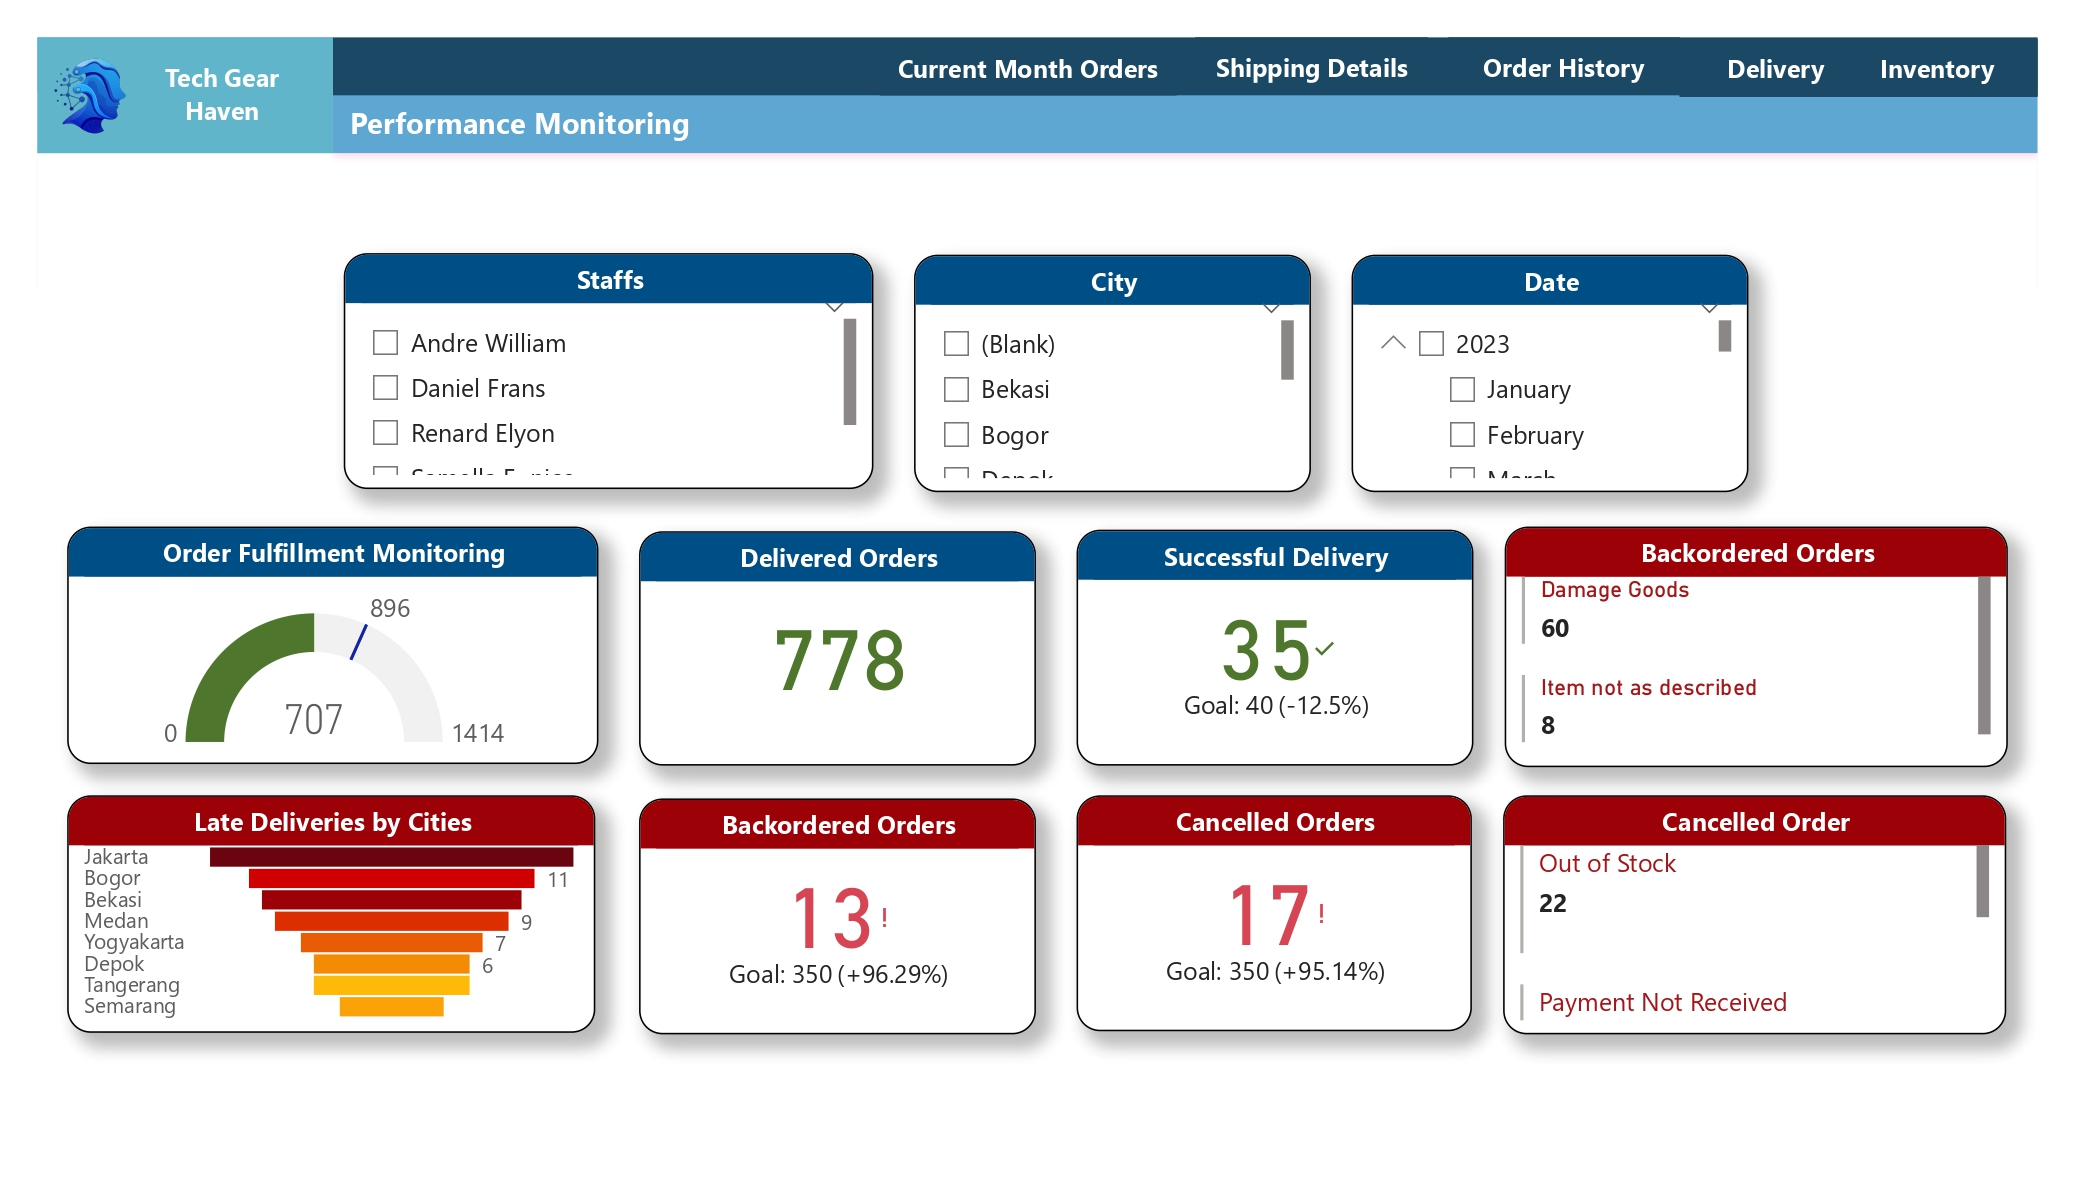

The page's visual inventory and layout, read from the dashboard file:
{"tool":"powerbi","page":{"name":"Performance","canvas":[1280,720],"ordinal":5},"visuals":[{"type":"kpi","title":"Successful Delivery","fields":{"Goal":["Count(Orders.OrderID)"],"TrendLine":["Orders.Order Date.Variation.Date Hierarchy.Month"],"Indicator":["Current Month Orders.Total of Delivery Succeed for all orders"]},"box":[664.9,314.6,253.6,151.4],"z":0},{"type":"slicer","title":"City","fields":{"Values":["Orders.DestinationCity"]},"box":[561.4,139.2,253.6,151.4],"z":1000},{"type":"funnel","title":"Late Deliveries by Cities","fields":{"Category":["Orders.DestinationCity"],"Y":["Current Month Orders.Total of late deliveries (distinct order ID)"]},"box":[18.9,485.2,337.7,151.4],"z":2000},{"type":"kpi","title":"Backordered Orders","fields":{"Goal":["Count(Orders.OrderID)"],"TrendLine":["Orders.Order Date.Variation.Date Hierarchy.Year"],"Indicator":["Current Month Orders.Count of OrderID for Backordered"]},"box":[385.4,486.7,253.6,151.4],"z":3000},{"type":"gauge","title":"Order Fulfillment Monitoring","fields":{"TargetValue":["Count(Orders.OrderID)"],"Y":["Current Month Orders.Total of Delivery Succeed for all orders"]},"box":[18.9,313.1,340.3,151.4],"z":4000},{"type":"kpi","title":"Cancelled Orders","fields":{"Goal":["Count(Orders.OrderID)"],"TrendLine":["Orders.Order Date.Variation.Date Hierarchy.Year"],"Indicator":["Current Month Orders.Count of OrderID for Cancelled"]},"box":[664.6,485.1,253.6,151.4],"z":5000},{"type":"shape","title":"Horizontal Shape","box":[188.9,36.2,1090.8,37.5],"z":6000},{"type":"shape","title":"Horizontal Shape","box":[189.1,0.2,1090.4,36.9],"z":7000},{"type":"shape","box":[0,0,188.9,74.4],"z":8000},{"type":"textbox","box":[56.9,10.4,121.6,53.1],"z":9000},{"type":"image","box":[0,5.2,67.3,64.7],"z":10000},{"type":"textbox","title":"Report Title","box":[195.2,37.2,438.7,36.5],"z":11000},{"type":"card","title":"Delivered Orders","fields":{"Values":["Count(Orders.OrderID)"]},"box":[385.4,315.9,253.6,150.1],"z":12000},{"type":"slicer","title":"Staffs","fields":{"Values":["Staffs.Name"]},"box":[196.1,137.7,339,151.4],"z":13000},{"type":"slicer","title":"Date","fields":{"Values":["Orders.Order Date.Variation.Date Hierarchy.Year","Orders.Order Date.Variation.Date Hierarchy.Month"]},"box":[840.9,139.2,253.6,151.4],"z":14000},{"type":"multiRowCard","title":"Cancelled Order","fields":{"Values":["Orders.OrderID","Orders.Comments"]},"box":[938.1,485.2,322.2,152.7],"z":15000},{"type":"multiRowCard","title":"Backordered Orders","fields":{"Values":["Orders.OrderID","Orders.Comments"]},"box":[938.5,312.6,322.2,154],"z":16000},{"type":"pageNavigator","box":[903.2,0,147.5,36.2],"z":17000},{"type":"pageNavigator","box":[539.2,0.7,190,36.7],"z":18000},{"type":"pageNavigator","box":[741.5,0,148.8,36.2],"z":19000},{"type":"pageNavigator","box":[1050.7,1.3,122.9,36.2],"z":20000},{"type":"pageNavigator","box":[1151.6,1.3,128.1,36.2],"z":21000}]}

Visuals, with their boxes in screenshot pixels (x1, y1, x2, y2):
"Successful Delivery" kpi: select_region(1069, 518, 1460, 751)
"City" slicer: select_region(909, 247, 1300, 481)
"Late Deliveries by Cities" funnel: select_region(72, 781, 593, 1014)
"Backordered Orders" kpi: select_region(638, 783, 1029, 1016)
"Order Fulfillment Monitoring" gauge: select_region(72, 515, 597, 749)
"Cancelled Orders" kpi: select_region(1068, 780, 1459, 1014)
"Horizontal Shape" shape: select_region(335, 88, 2017, 146)
"Horizontal Shape" shape: select_region(335, 33, 2016, 90)
shape: select_region(43, 32, 335, 147)
textbox: select_region(131, 48, 318, 130)
image: select_region(43, 40, 147, 140)
"Report Title" textbox: select_region(344, 90, 1021, 146)
"Delivered Orders" card: select_region(638, 520, 1029, 751)
"Staffs" slicer: select_region(346, 245, 868, 478)
"Date" slicer: select_region(1340, 247, 1731, 481)
"Cancelled Order" multiRowCard: select_region(1490, 781, 1987, 1016)
"Backordered Orders" multiRowCard: select_region(1490, 514, 1987, 752)
pageNavigator: select_region(1436, 32, 1663, 88)
pageNavigator: select_region(875, 33, 1168, 90)
pageNavigator: select_region(1187, 32, 1416, 88)
pageNavigator: select_region(1663, 34, 1853, 90)
pageNavigator: select_region(1819, 34, 2017, 90)
